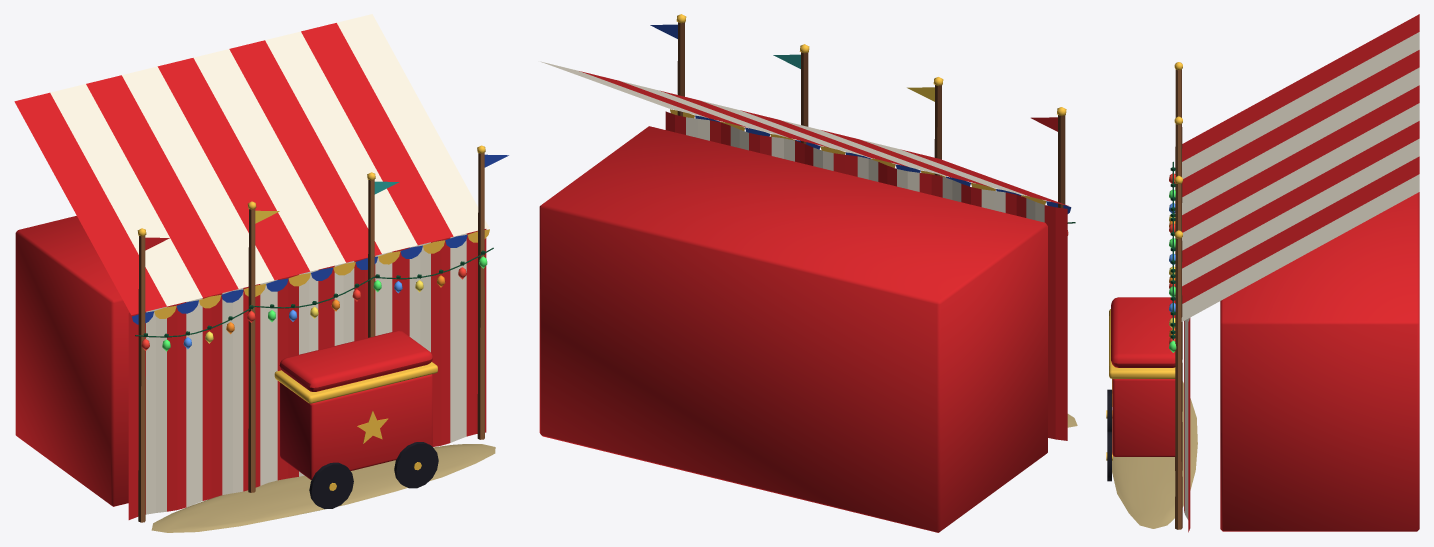
File: CircusWallC.fbx
3 renders of one model, left to right at view 1: azimuth 30°, elevation 25°; view 2: azimuth 150°, elevation 25°; view 3: azimuth 270°, elevation 25°, orthographic. The views are drawn at different scales.
Parts seen in each view (by area): view 1: CircusWallC; view 2: CircusWallC; view 3: CircusWallC.
Boxes of the visible parts, bbox=[...] form: CircusWallC: bbox=[14, 14, 508, 532]; CircusWallC: bbox=[539, 14, 1077, 532]; CircusWallC: bbox=[1106, 14, 1419, 532].
Size of the model in its own units: 8 by 6.8 by 5.66.
2 materials, 2 textured.
